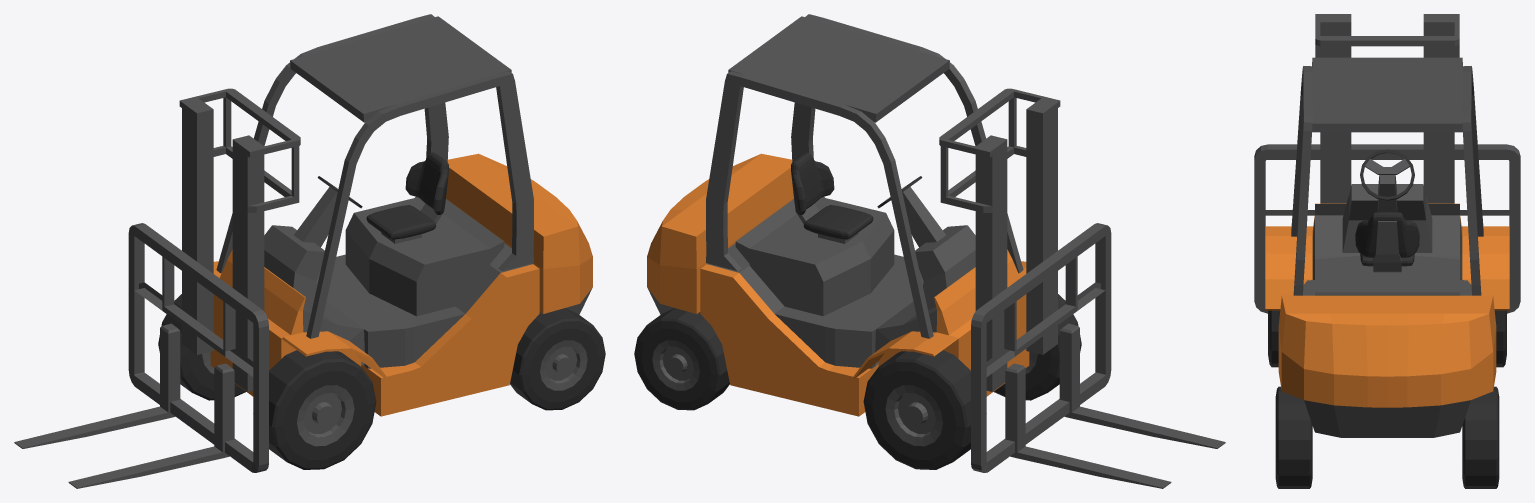
File: forklift.fbx
3 renders of one model, left to right at view 1: azimuth 30°, elevation 25°; view 2: azimuth 150°, elevation 25°; view 3: azimuth 270°, elevation 25°, orthographic. The views are drawn at different scales.
Parts seen in each view (by area): view 1: Body, Forks, Circle.005, Circle.004, Seat, Circle.002; view 2: Body, Forks, Circle.002, Circle.003, Seat, Circle.005; view 3: Body, Forks, Circle.003, Circle.004, Seat, Circle.002, Circle.005.
Part boxes in pixels (<box>): Body: <box>179,14,592,416</box>; Forks: <box>14,223,268,488</box>; Circle.005: <box>269,350,376,469</box>; Circle.004: <box>510,308,605,410</box>; Seat: <box>366,152,448,239</box>; Circle.002: <box>158,294,245,400</box>; Body: <box>647,14,1060,416</box>; Forks: <box>971,223,1225,488</box>; Circle.002: <box>863,350,970,469</box>; Circle.003: <box>634,308,729,410</box>; Seat: <box>791,152,873,239</box>; Circle.005: <box>994,294,1081,400</box>; Body: <box>1265,14,1509,437</box>; Forks: <box>1254,144,1520,313</box>; Circle.003: <box>1462,386,1499,488</box>; Circle.004: <box>1275,386,1312,488</box>; Seat: <box>1355,212,1419,266</box>; Circle.002: <box>1494,310,1506,367</box>; Circle.005: <box>1268,310,1280,367</box>.
Size of the model in its own units: 242 by 149 by 104.
